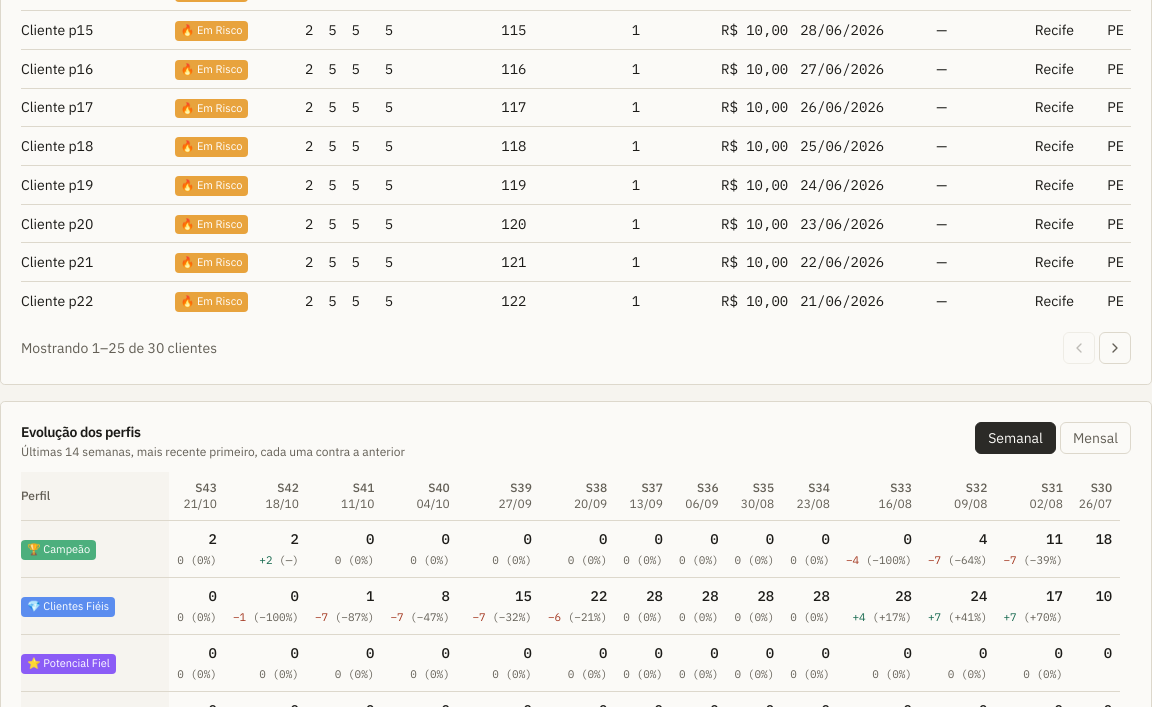
Test: B33-02 — clientes por perfil RFV › CA-B33-10: 30 clientes: 25 linhas com as colunas, 'Mostrando 1–25 de 30' e a seta avança para os 5
(page scrolled)
Check: the text with test id "rfv-paginacao" reads "Mostrando 1–25 de 30 clientes", box [21,338,217,358]
Click the button named "Próxima página": point(1115, 348) [1099,332,1131,364]
(page scrolled)
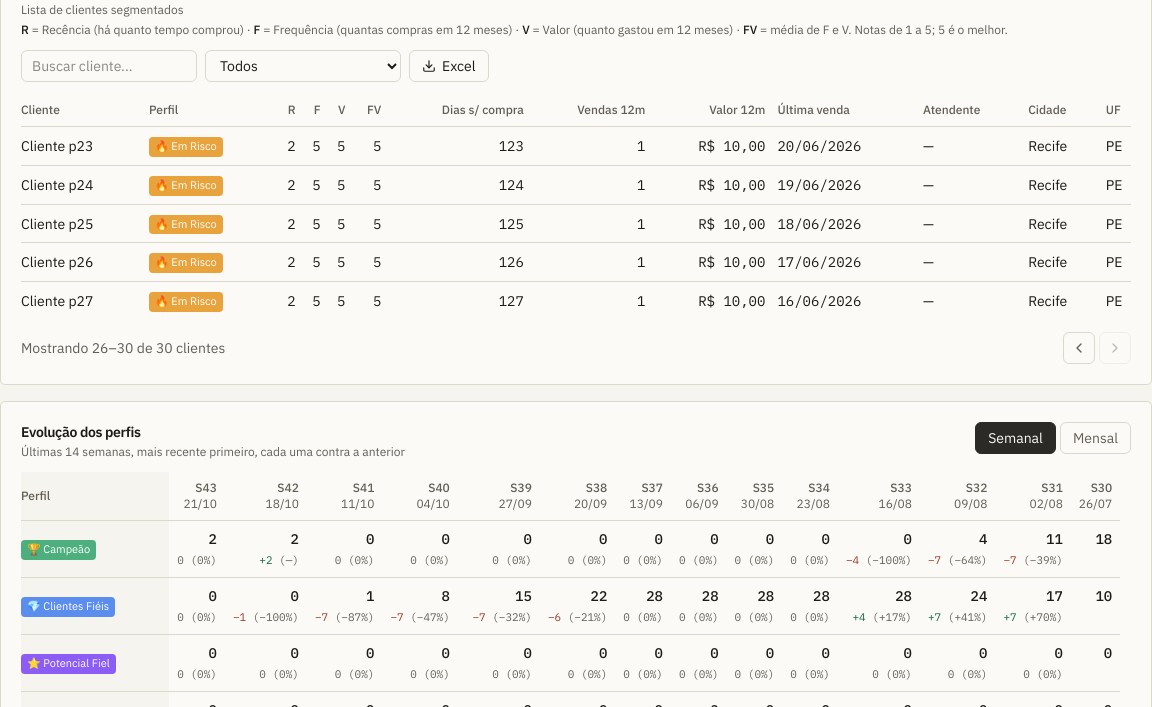
Check: the text with test id "rfv-paginacao" reads "Mostrando 26–30 de 30 clientes", box [21,338,225,358]
